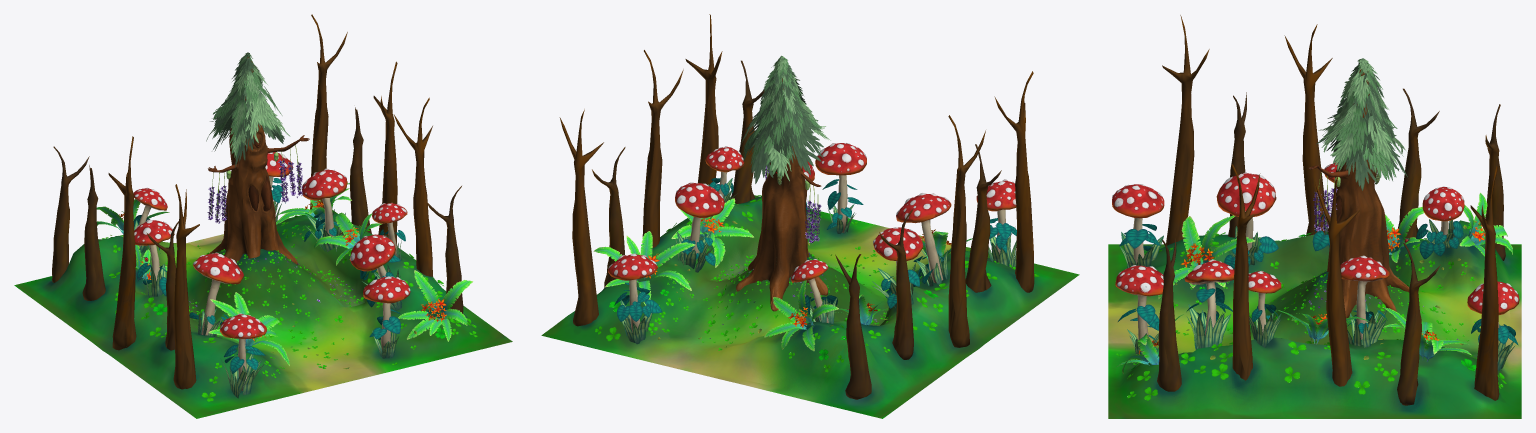
Rendered from the_little_self.glb.
3 views of the same model, side by side, from view 1: azimuth 30°, elevation 25°; view 2: azimuth 150°, elevation 25°; view 3: azimuth 270°, elevation 25° (orthographic). The views are drawn at different scales.
Visible parts, largest first — view 1: flor; view 2: flor; view 3: flor.
Part boxes in pixels (<box>): flor: <box>14,14,512,418</box>; flor: <box>541,14,1079,418</box>; flor: <box>1108,15,1521,418</box>.
Size of what is drawn, in the model's own units: 32.04 by 24.22 by 32.
Materials: 12 (12 with a texture image).
